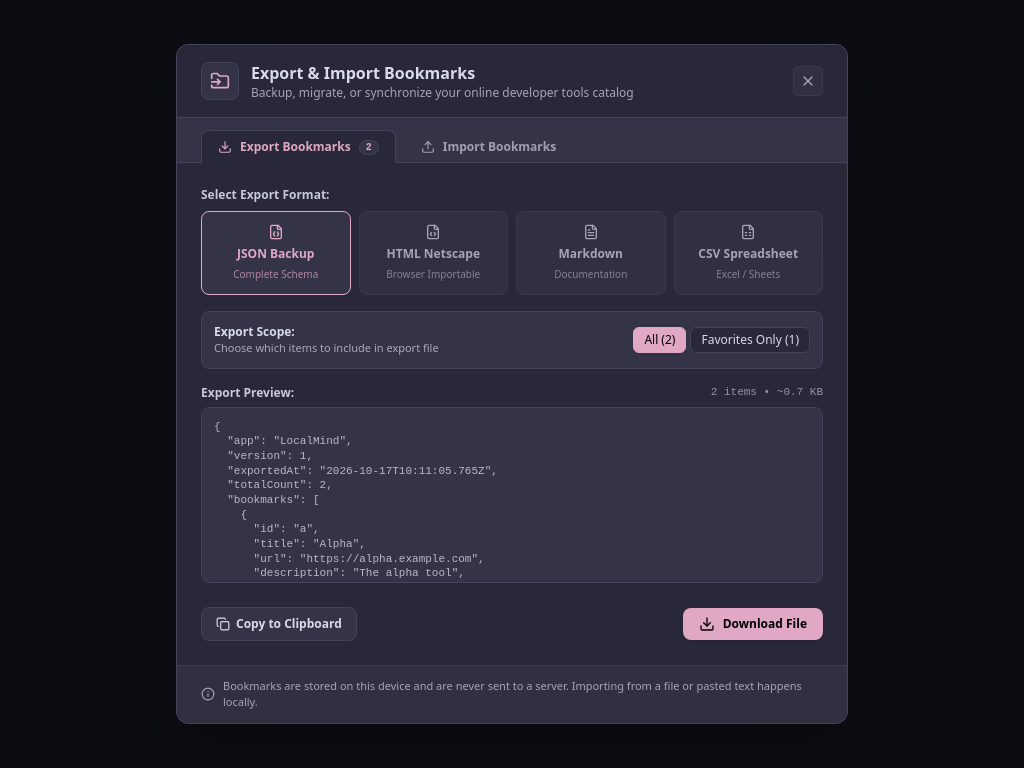
Test case: import tab › does not promise drag and drop it does not have
The width and height of the screenshot is (1024, 768).
What coordinates should you click on to do the following:
click the button with id "tab-import-bookmarks"
I would click on:
 (488, 147)
Its box is [404, 130, 573, 163].
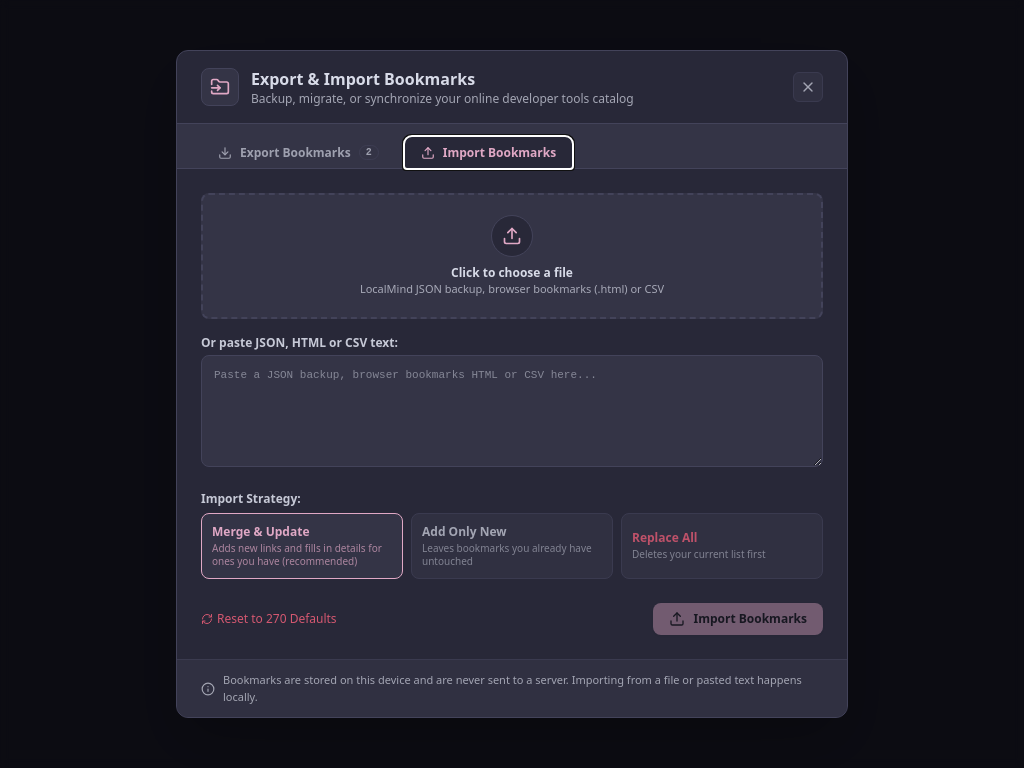
Now the text "Click to choose a file" is shown, box [451, 264, 573, 281]
